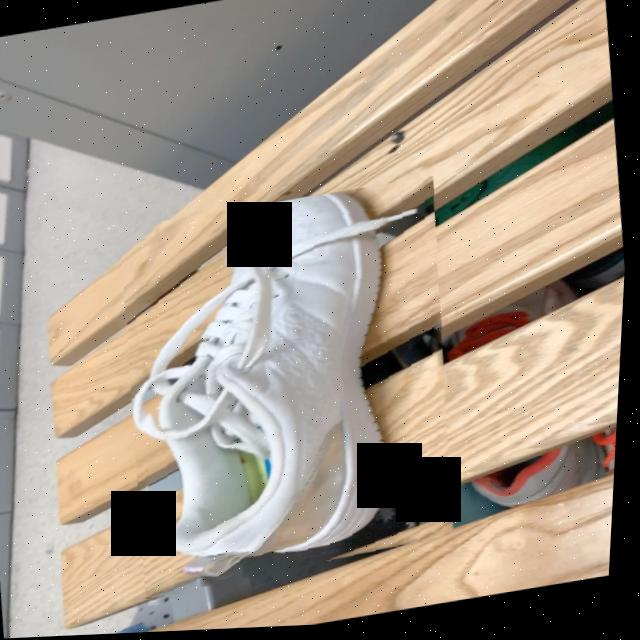shoe: (136, 196, 438, 586)
